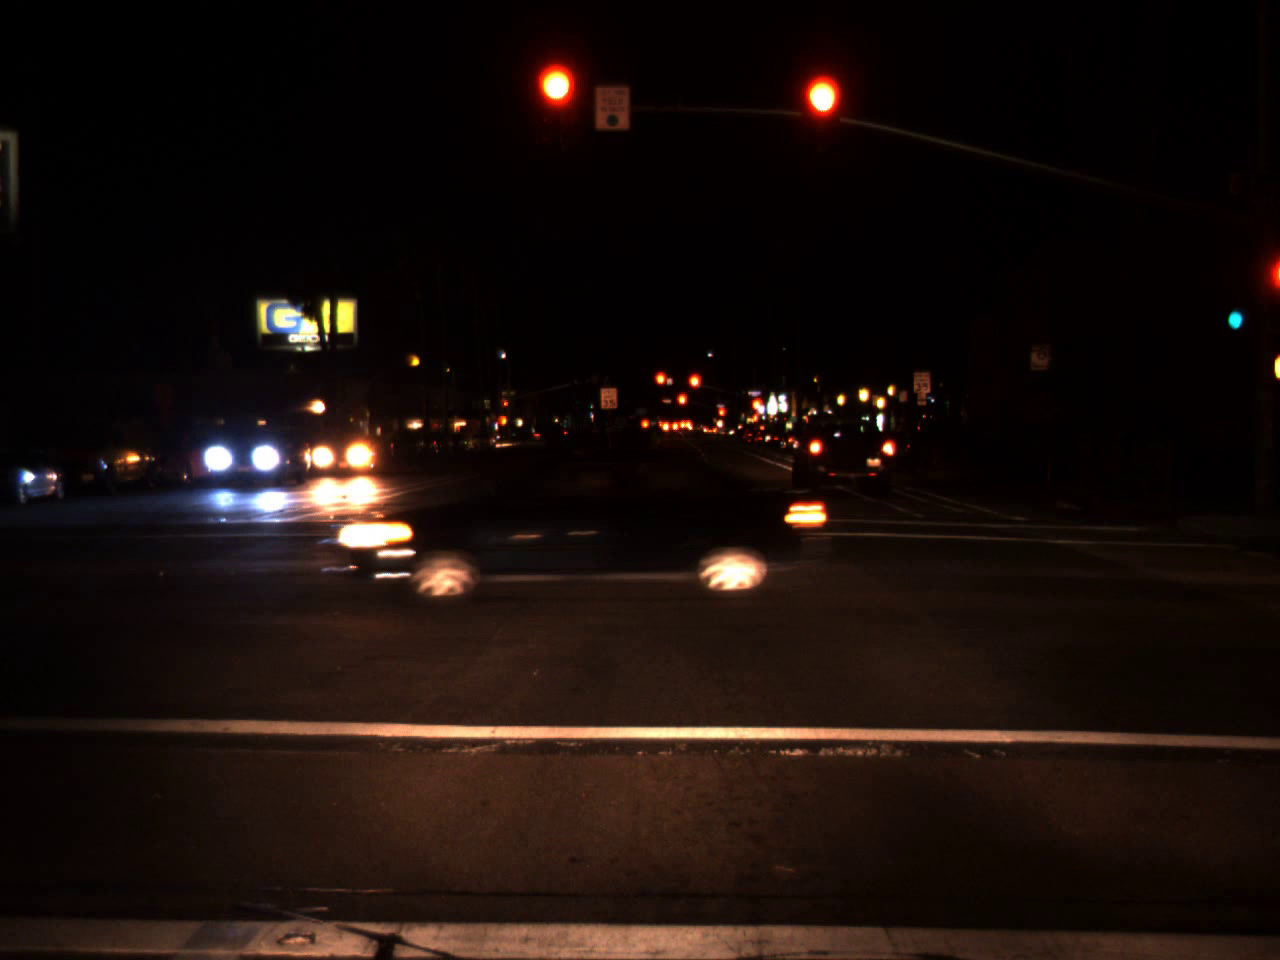stop: (536, 65, 577, 143), (802, 77, 841, 152), (686, 372, 702, 404), (653, 370, 668, 399), (750, 397, 763, 426), (675, 391, 688, 418), (717, 406, 727, 427), (503, 401, 509, 411)
